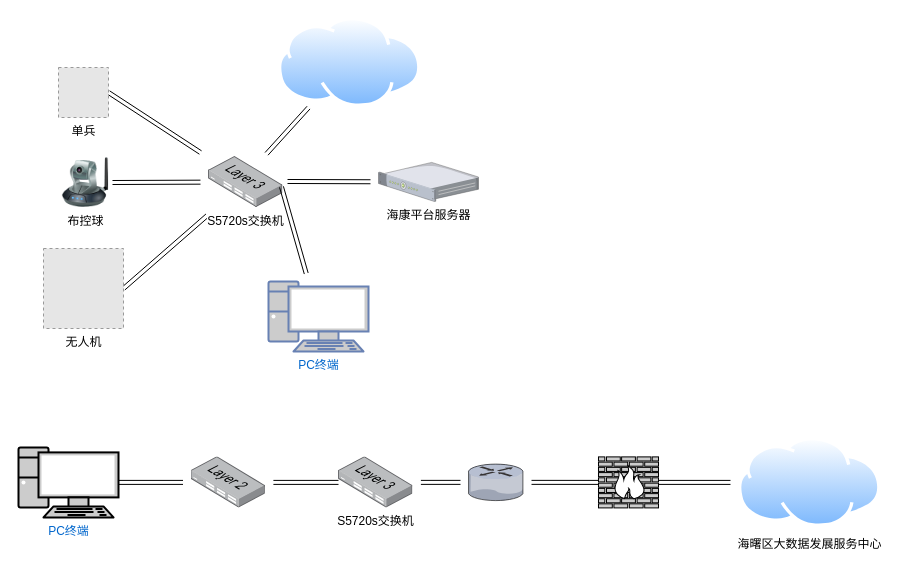
The diagram is 899 pixels wide and 568 high, and some of its shapes have lost their labels. Grey dashed boxes stand in for pictures. Here are the shapes that lost their labels. From the top down, the box of each, then its label:
(278, 17, 420, 107): 市应急管理局
(190, 456, 265, 507): S5735s交换机
(468, 464, 523, 500): AR6120路由器
(597, 455, 659, 508): 天融信防火墙
